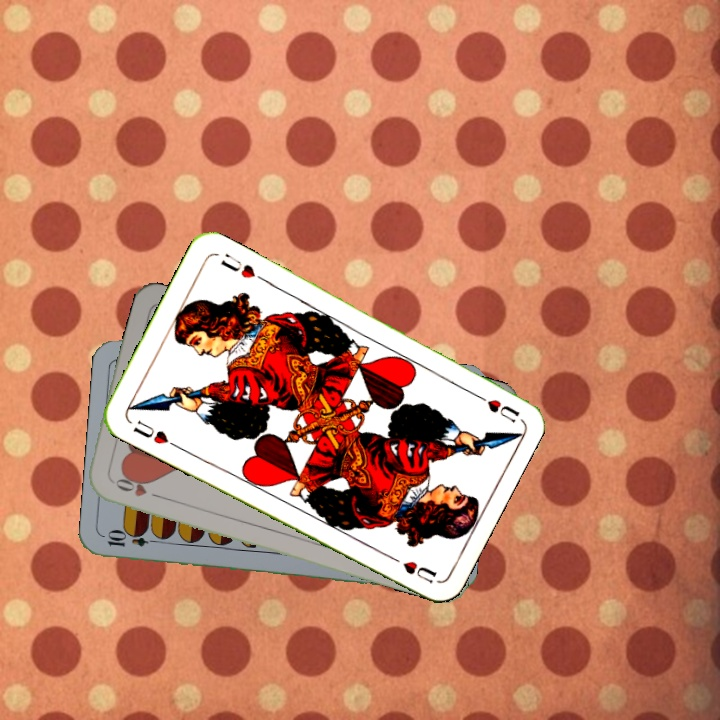E10: (103, 530, 162, 550)
HO: (107, 474, 165, 501)
HU: (467, 388, 522, 425), (129, 416, 171, 447)
